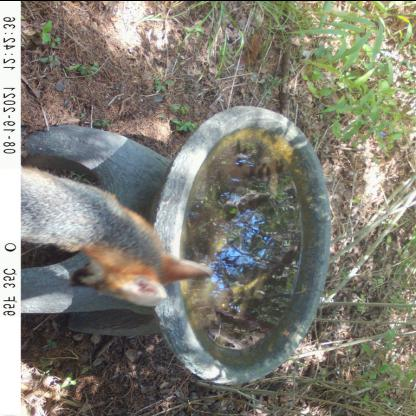zorro: (21, 150, 217, 309)
